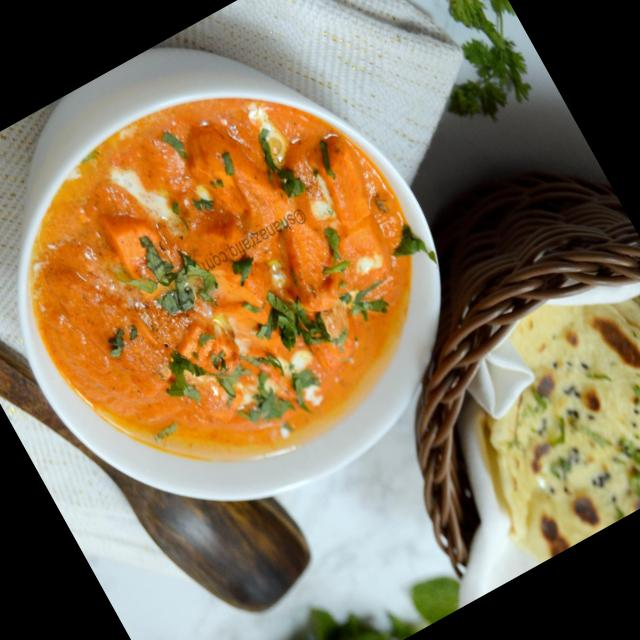roti: (441, 269, 640, 546)
